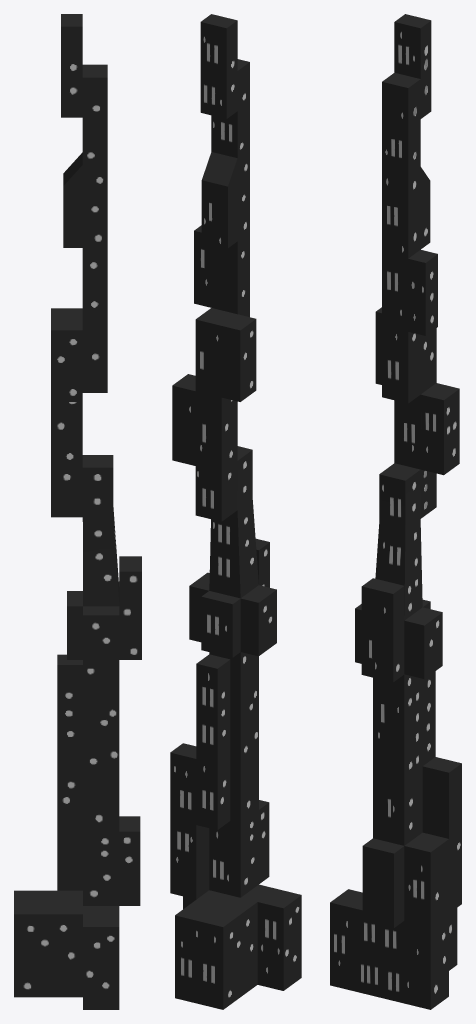
The model's file is Stage7.fbx.
3 renders of one model, left to right at view 1: azimuth 90°, elevation 25°; view 2: azimuth 150°, elevation 25°; view 3: azimuth 330°, elevation 25°, orthographic.
Parts seen in each view (by area): view 1: pCube1; view 2: pCube1; view 3: pCube1.
Boxes of the visible parts, box(x1,y1,x2,y2) form: pCube1: box(14, 14, 141, 1009); pCube1: box(170, 14, 301, 1009); pCube1: box(330, 14, 461, 1009).
Size of the model in its own units: 139 by 1269 by 153.
Materials: 1 (1 with a texture image).
